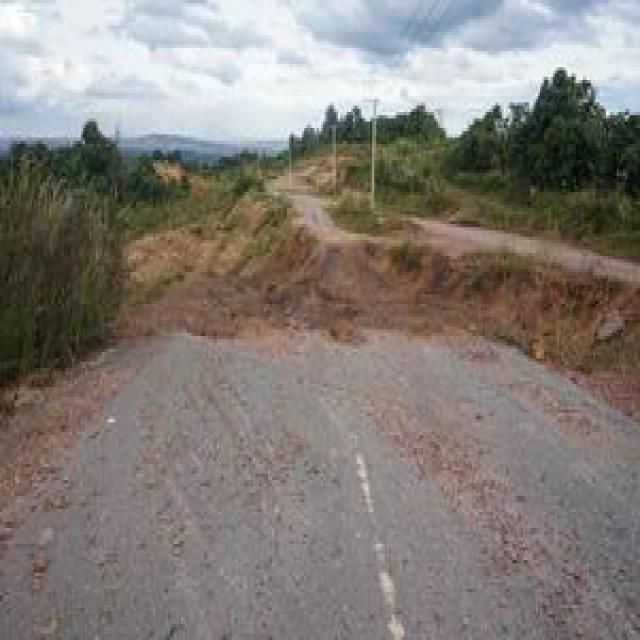road collapse: (27, 96, 640, 467)
